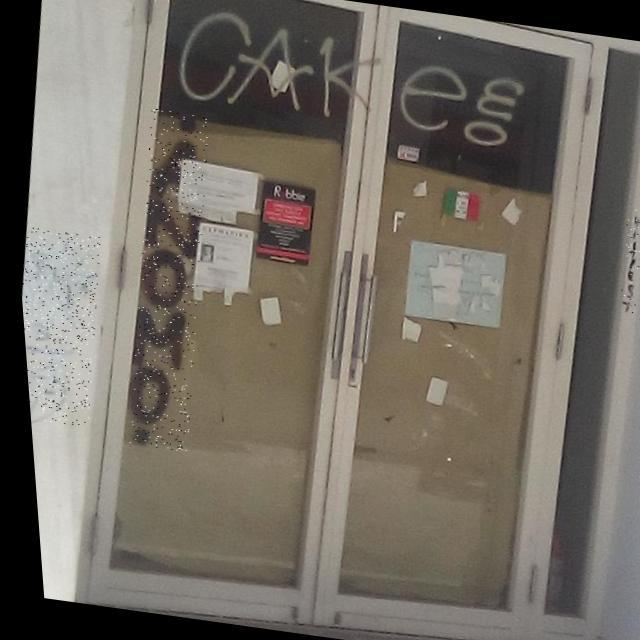-: (170, 4, 534, 153), (103, 109, 228, 452), (13, 227, 108, 428), (609, 208, 640, 316)
